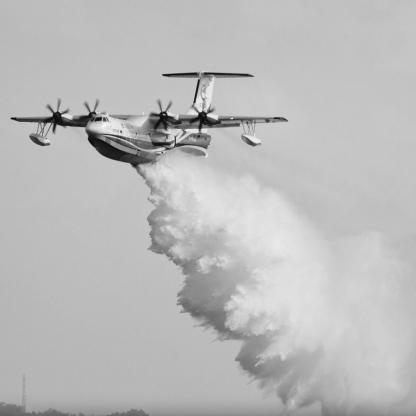AG600: (11, 71, 290, 169)
